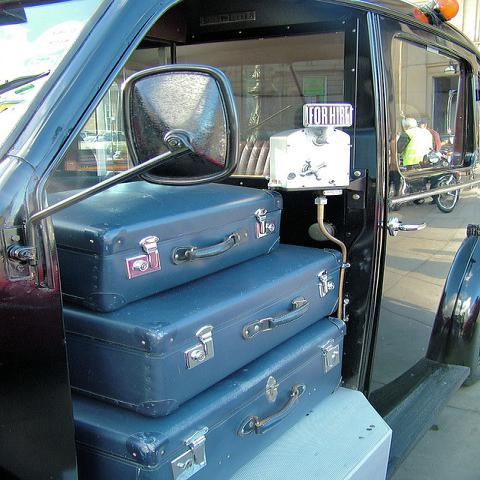car: (3, 0, 479, 475)
truck: (1, 0, 480, 473)
